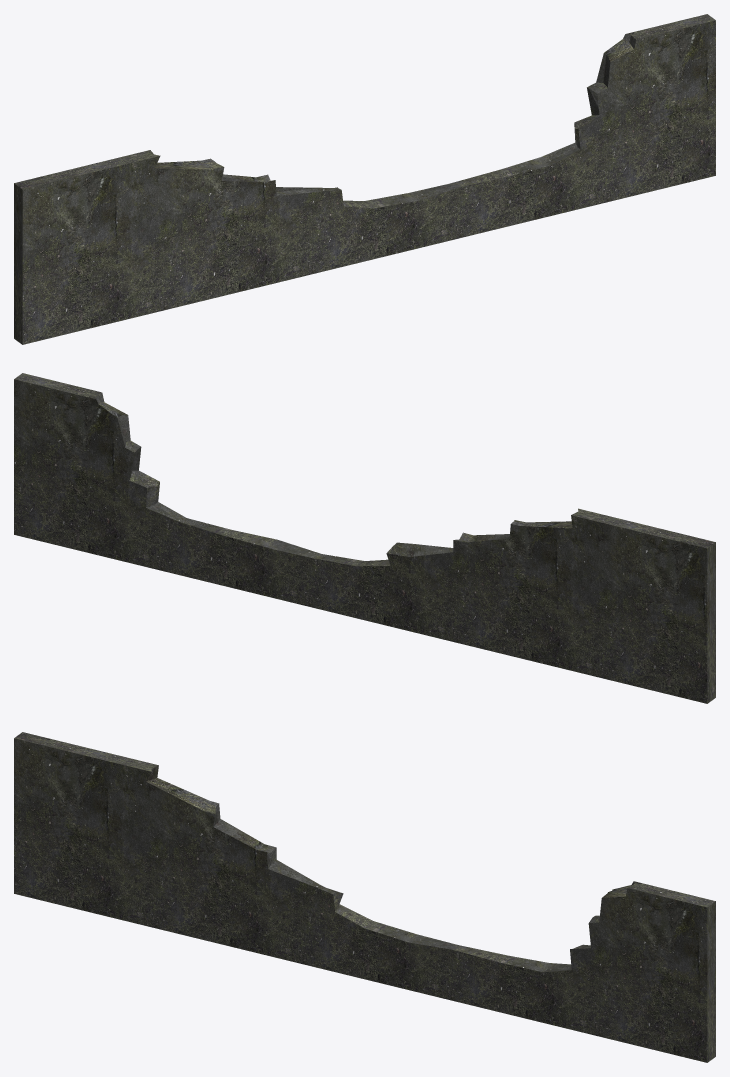
The model's file is tuong 1.fbx.
3 views of the same model, one above another, from view 1: azimuth 30°, elevation 25°; view 2: azimuth 150°, elevation 25°; view 3: azimuth 330°, elevation 25° (orthographic).
Visible parts, largest first — view 1: Cube; view 2: Cube; view 3: Cube.
Part boxes in pixels (bbox=[...]): Cube: bbox=[14, 14, 715, 344]; Cube: bbox=[14, 373, 715, 703]; Cube: bbox=[14, 732, 715, 1062].
Bounding box in the file's own units: 1400 × 300 × 30.
Materials: 1 (1 with a texture image).
